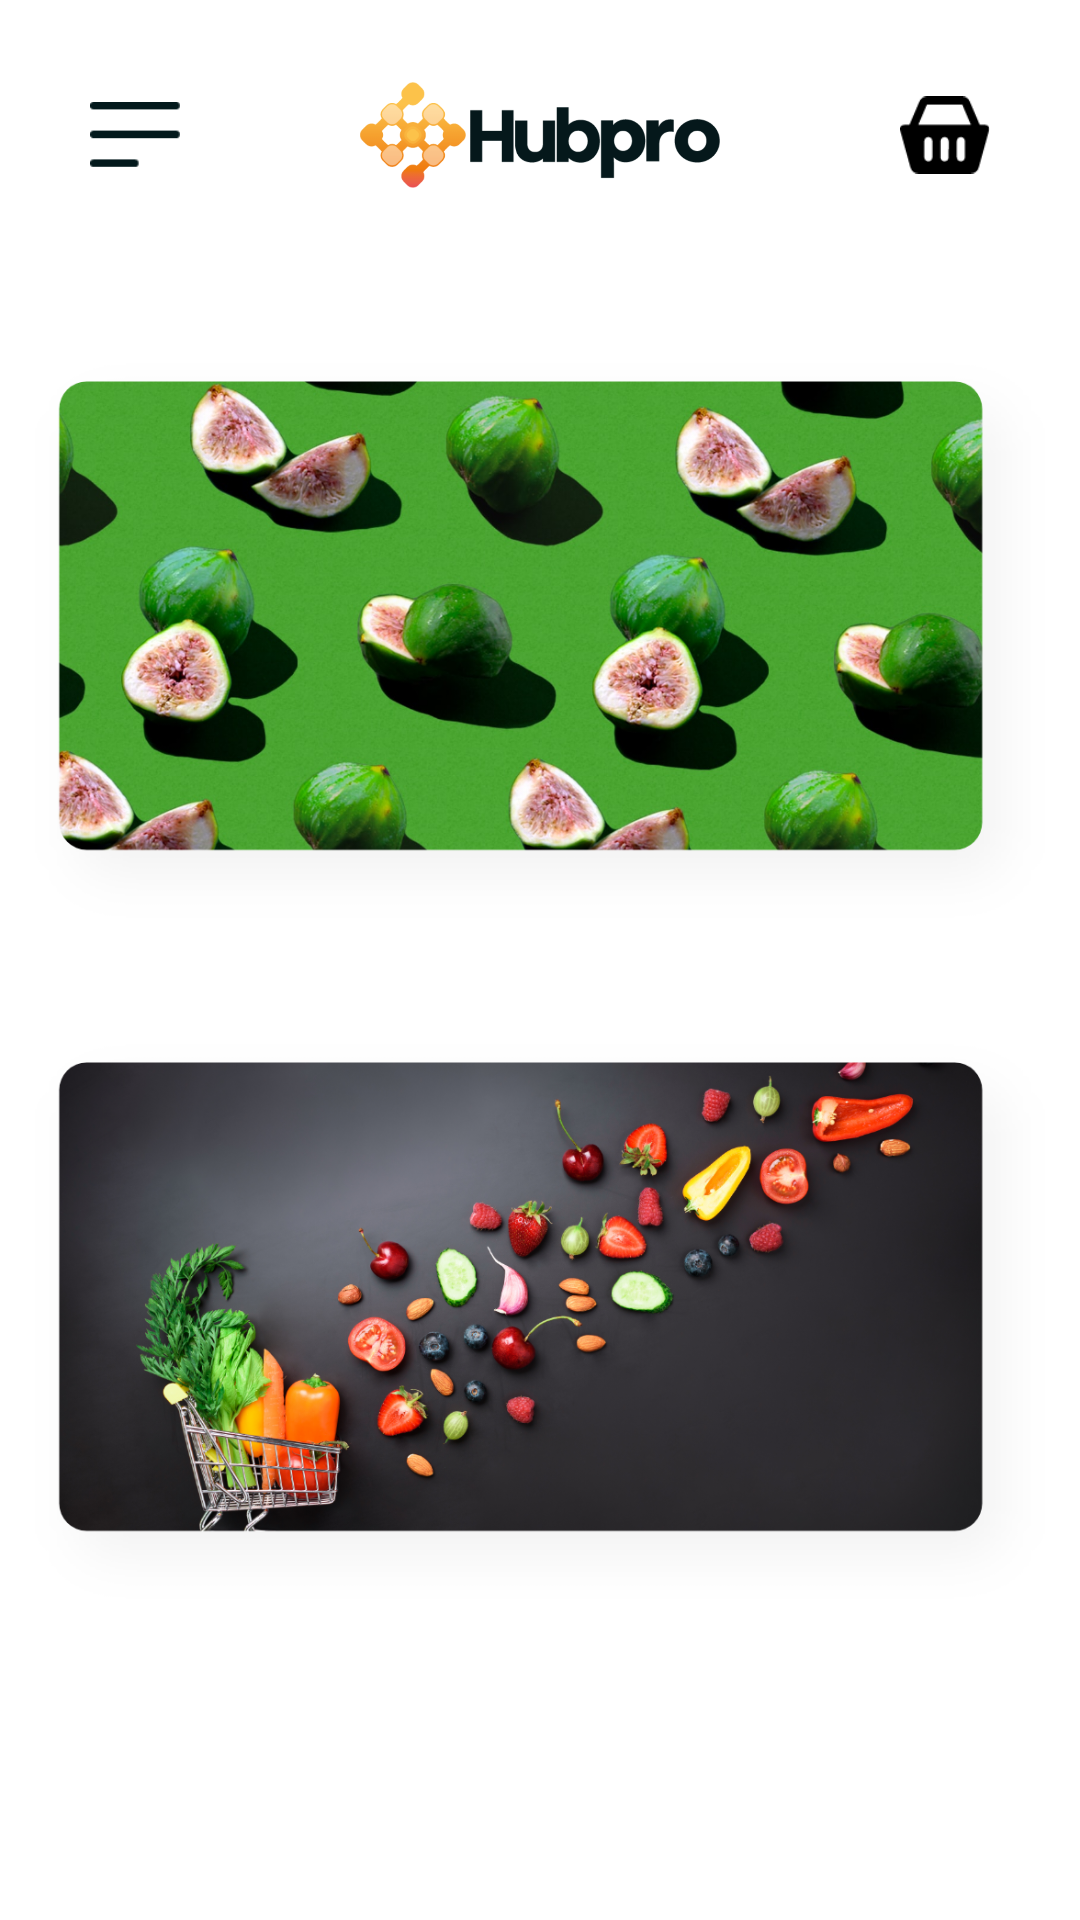

Icons on this 1080px×1920px Android screen, each with the point to tap as point (x, y):
basket: point (944, 135)
menu: point (135, 134)
